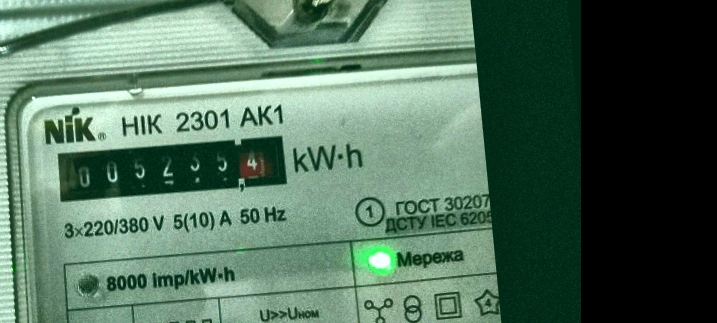0: (74, 161, 93, 189), (103, 157, 119, 183)
2: (158, 151, 174, 177)
3: (185, 146, 202, 172)
4: (242, 145, 260, 172)
5: (212, 144, 230, 173), (130, 153, 147, 181)
screen: (45, 121, 299, 213)
